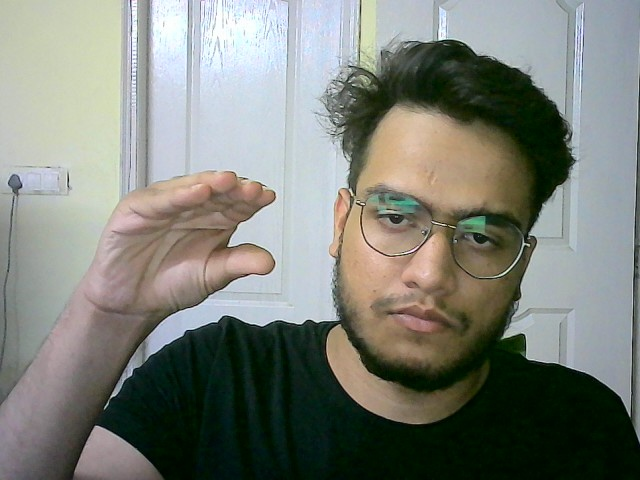No: (82, 163, 287, 320)
